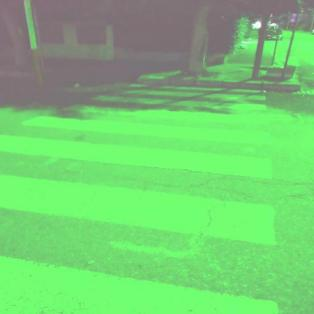Paso de Cebra: (2, 108, 282, 190)
